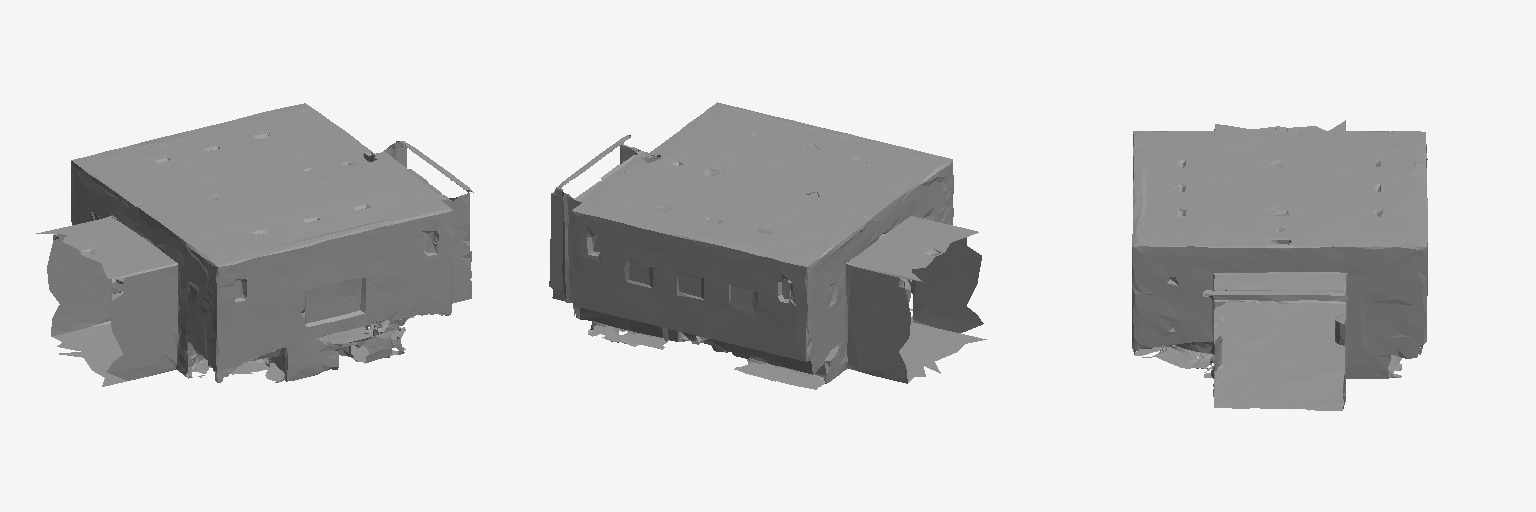
Rendered from room1.obj.
3 views of the same model, side by side, from view 1: azimuth 30°, elevation 25°; view 2: azimuth 150°, elevation 25°; view 3: azimuth 270°, elevation 25° (orthographic).
Parts seen in each view (by area): view 1: chunk024_group000_sub000.001_chunk024_group000_sub000.004, chunk059_group000_sub000.001_chunk059_group000_sub000.004, chunk065_group000_sub000.001_chunk065_group000_sub000.004, chunk048_group000_sub000.001_chunk048_group000_sub000.004, chunk053_group000_sub000.001_chunk053_group000_sub000.004, chunk056_group000_sub000.001_chunk056_group000_sub000.004, chunk039_group000_sub000.001_chunk039_group000_sub000.004, chunk000_group000_sub000.001_chunk000_group000_sub000.004, chunk067_group000_sub000.001_chunk067_group000_sub000.004, chunk026_group000_sub000.001_chunk026_group000_sub000.004; view 2: chunk024_group000_sub000.001_chunk024_group000_sub000.004, chunk030_group000_sub000.001_chunk030_group000_sub000.004, chunk048_group000_sub000.001_chunk048_group000_sub000.004, chunk039_group000_sub000.001_chunk039_group000_sub000.004, chunk065_group000_sub000.001_chunk065_group000_sub000.004, chunk056_group000_sub000.001_chunk056_group000_sub000.004, chunk000_group000_sub000.001_chunk000_group000_sub000.004, chunk035_group000_sub000.001_chunk035_group000_sub000.004, chunk047_group000_sub000.001_chunk047_group000_sub000.004, chunk053_group000_sub000.001_chunk053_group000_sub000.004, chunk026_group000_sub000.001_chunk026_group000_sub000.004; view 3: chunk024_group000_sub000.001_chunk024_group000_sub000.004, chunk038_group000_sub000.001_chunk038_group000_sub000.004, chunk026_group000_sub000.001_chunk026_group000_sub000.004, chunk042_group000_sub000.001_chunk042_group000_sub000.004, chunk000_group000_sub000.001_chunk000_group000_sub000.004, chunk048_group000_sub000.001_chunk048_group000_sub000.004, chunk063_group000_sub000.001_chunk063_group000_sub000.004.
Boxes of the visible parts, box(x1,y1,x2,y2) form: chunk024_group000_sub000.001_chunk024_group000_sub000.004: box(71, 103, 452, 296); chunk059_group000_sub000.001_chunk059_group000_sub000.004: box(216, 210, 452, 382); chunk065_group000_sub000.001_chunk065_group000_sub000.004: box(106, 265, 178, 380); chunk048_group000_sub000.001_chunk048_group000_sub000.004: box(47, 150, 447, 336); chunk053_group000_sub000.001_chunk053_group000_sub000.004: box(171, 242, 217, 376); chunk056_group000_sub000.001_chunk056_group000_sub000.004: box(36, 216, 364, 326); chunk039_group000_sub000.001_chunk039_group000_sub000.004: box(71, 161, 184, 294); chunk000_group000_sub000.001_chunk000_group000_sub000.004: box(52, 294, 282, 386); chunk067_group000_sub000.001_chunk067_group000_sub000.004: box(441, 193, 471, 303); chunk026_group000_sub000.001_chunk026_group000_sub000.004: box(320, 316, 413, 363); chunk024_group000_sub000.001_chunk024_group000_sub000.004: box(572, 102, 952, 384); chunk030_group000_sub000.001_chunk030_group000_sub000.004: box(571, 211, 808, 361); chunk048_group000_sub000.001_chunk048_group000_sub000.004: box(573, 151, 921, 383); chunk039_group000_sub000.001_chunk039_group000_sub000.004: box(806, 182, 919, 383); chunk065_group000_sub000.001_chunk065_group000_sub000.004: box(912, 237, 983, 332); chunk056_group000_sub000.001_chunk056_group000_sub000.004: box(846, 216, 978, 281); chunk000_group000_sub000.001_chunk000_group000_sub000.004: box(743, 316, 986, 389); chunk035_group000_sub000.001_chunk035_group000_sub000.004: box(549, 188, 581, 302); chunk047_group000_sub000.001_chunk047_group000_sub000.004: box(576, 307, 812, 374); chunk053_group000_sub000.001_chunk053_group000_sub000.004: box(742, 160, 953, 366); chunk026_group000_sub000.001_chunk026_group000_sub000.004: box(570, 301, 665, 349); chunk024_group000_sub000.001_chunk024_group000_sub000.004: box(1132, 131, 1427, 247); chunk038_group000_sub000.001_chunk038_group000_sub000.004: box(1198, 245, 1427, 378); chunk026_group000_sub000.001_chunk026_group000_sub000.004: box(1135, 332, 1401, 410); chunk042_group000_sub000.001_chunk042_group000_sub000.004: box(1132, 246, 1231, 351); chunk000_group000_sub000.001_chunk000_group000_sub000.004: box(1214, 291, 1345, 340); chunk048_group000_sub000.001_chunk048_group000_sub000.004: box(1214, 123, 1345, 291); chunk063_group000_sub000.001_chunk063_group000_sub000.004: box(1211, 295, 1345, 304).
Bounding box in the file's own units: 8.02 × 2.91 × 5.48.